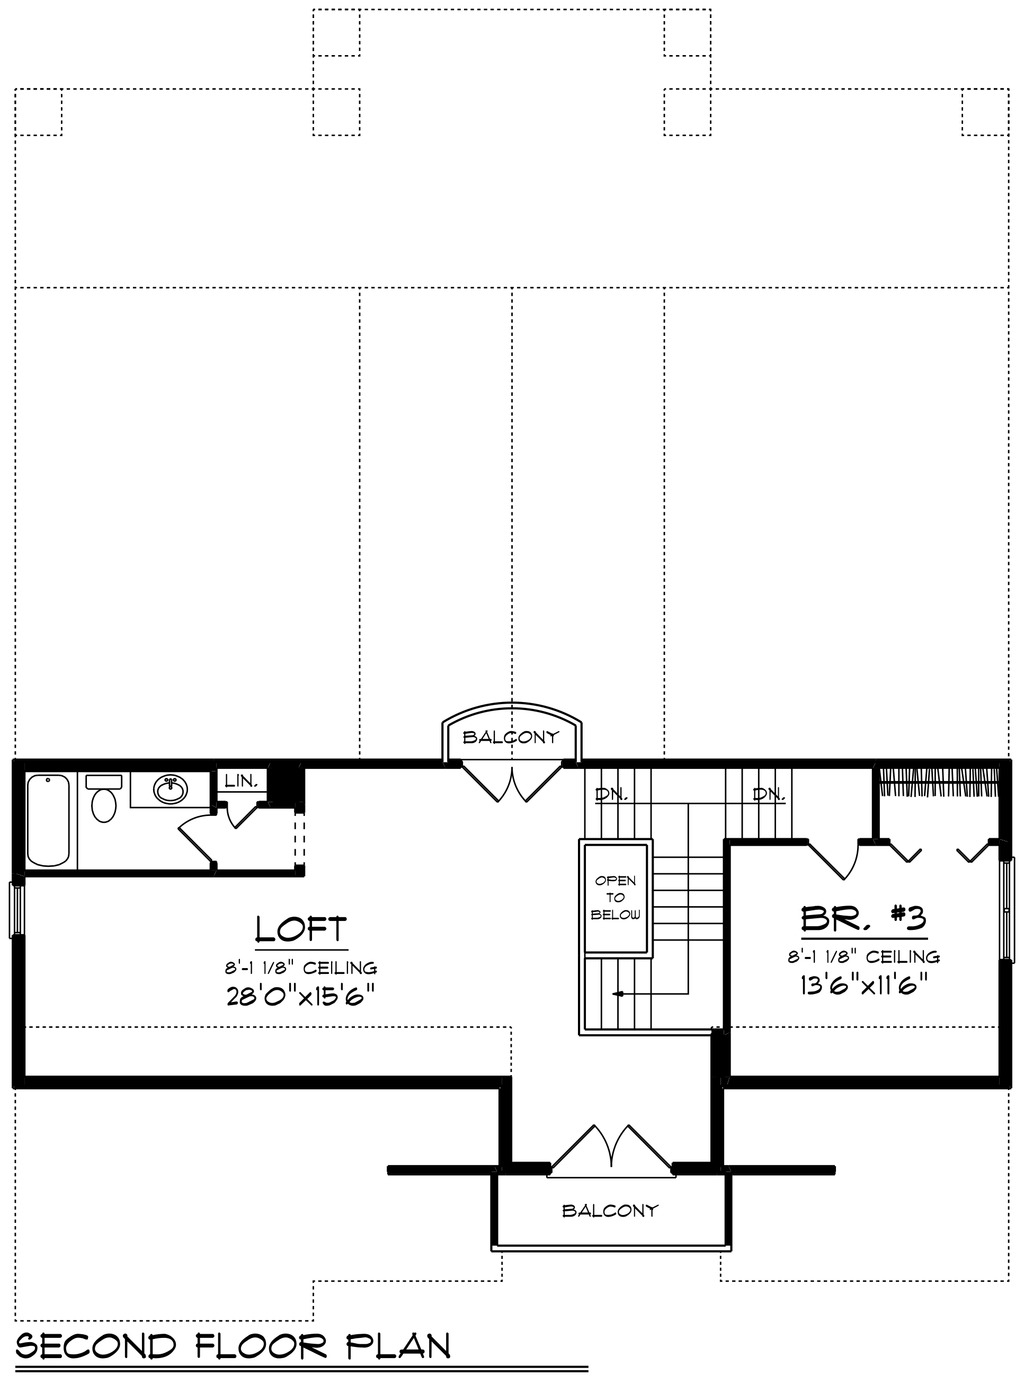door: (549, 1112, 680, 1184), (457, 748, 566, 809), (808, 837, 863, 881), (179, 818, 224, 865)
large_sink: (82, 770, 126, 834)
small_sink: (126, 765, 216, 816)
stairs: (573, 759, 802, 1031)
tub: (23, 760, 79, 869)
windows: (989, 857, 1024, 973)
